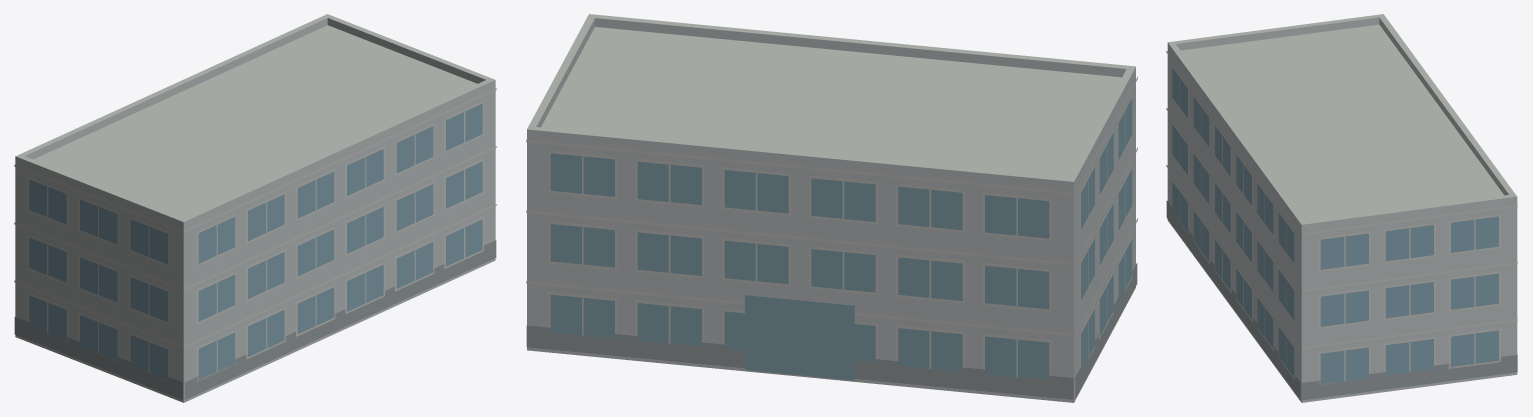
Rendered from public-5d891d3a-3779-4b22-a1d0-2884bb3131d8.glb.
The picture shows the model from 3 angles, left to right: view 1: azimuth 30°, elevation 25°; view 2: azimuth 150°, elevation 25°; view 3: azimuth 270°, elevation 25°; orthographic projection. The views are drawn at different scales.
Parts seen in each view (by area): view 1: public-5d891d3a-3779-4b22-a1d0-2884bb3131d8; view 2: public-5d891d3a-3779-4b22-a1d0-2884bb3131d8; view 3: public-5d891d3a-3779-4b22-a1d0-2884bb3131d8.
Boxes of the visible parts, x1,y1,x2,y2 form: public-5d891d3a-3779-4b22-a1d0-2884bb3131d8: (14, 14, 496, 402); public-5d891d3a-3779-4b22-a1d0-2884bb3131d8: (526, 14, 1137, 402); public-5d891d3a-3779-4b22-a1d0-2884bb3131d8: (1166, 14, 1517, 402).
Bounding box in the file's own units: 23.36 × 9.15 × 16.41.
